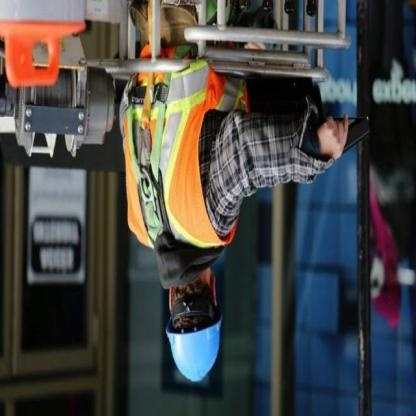blue: (158, 296, 227, 388)
vest: (117, 66, 251, 263)
